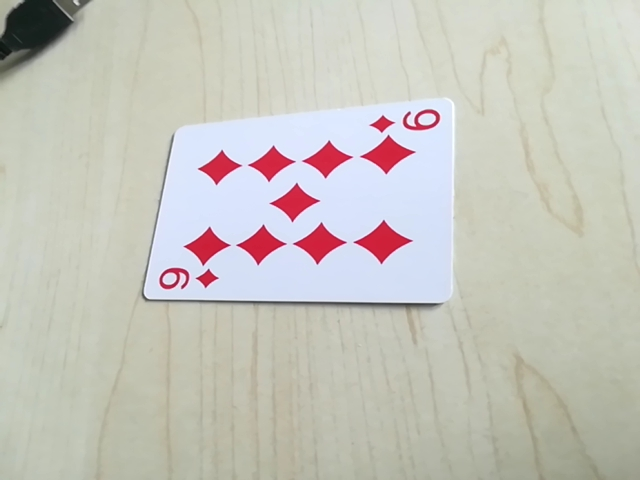fk 9: (366, 104, 448, 140), (151, 263, 220, 299)
